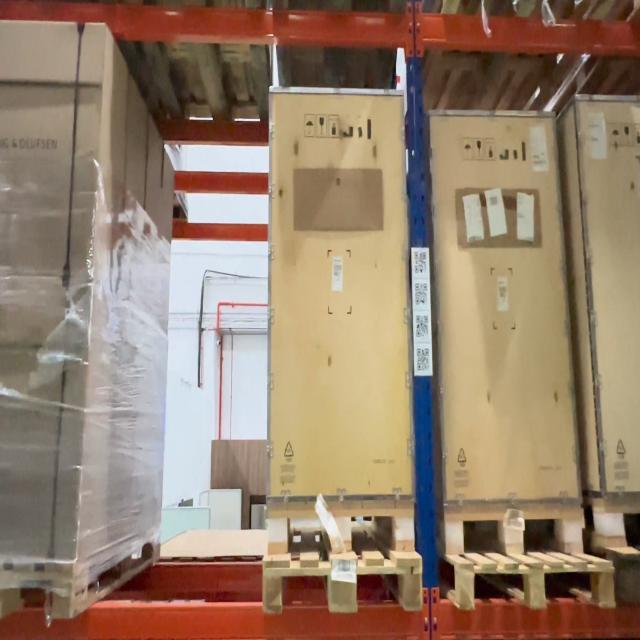box: (265, 88, 415, 501), (432, 109, 581, 503)
